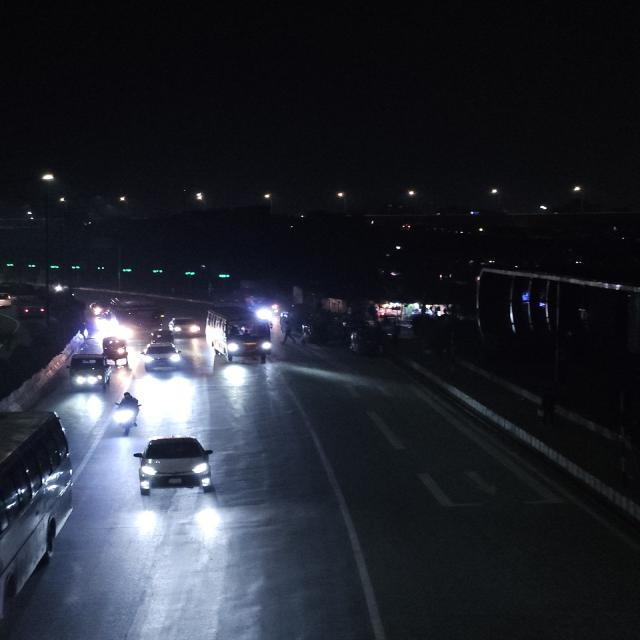bus: (0, 410, 74, 589), (206, 311, 275, 364), (115, 299, 166, 339)
car: (133, 438, 225, 501), (139, 343, 185, 375), (169, 316, 201, 336)
cng: (349, 332, 388, 362)
motorcycle: (109, 390, 148, 439)
pedestrian: (280, 323, 296, 345)
pickup_van: (56, 352, 113, 392)
rickshaw: (98, 338, 134, 366)
truck: (10, 296, 47, 320)
